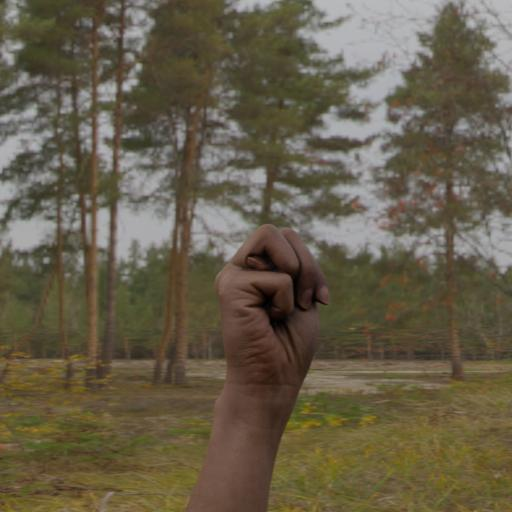M: (210, 221, 336, 401)
